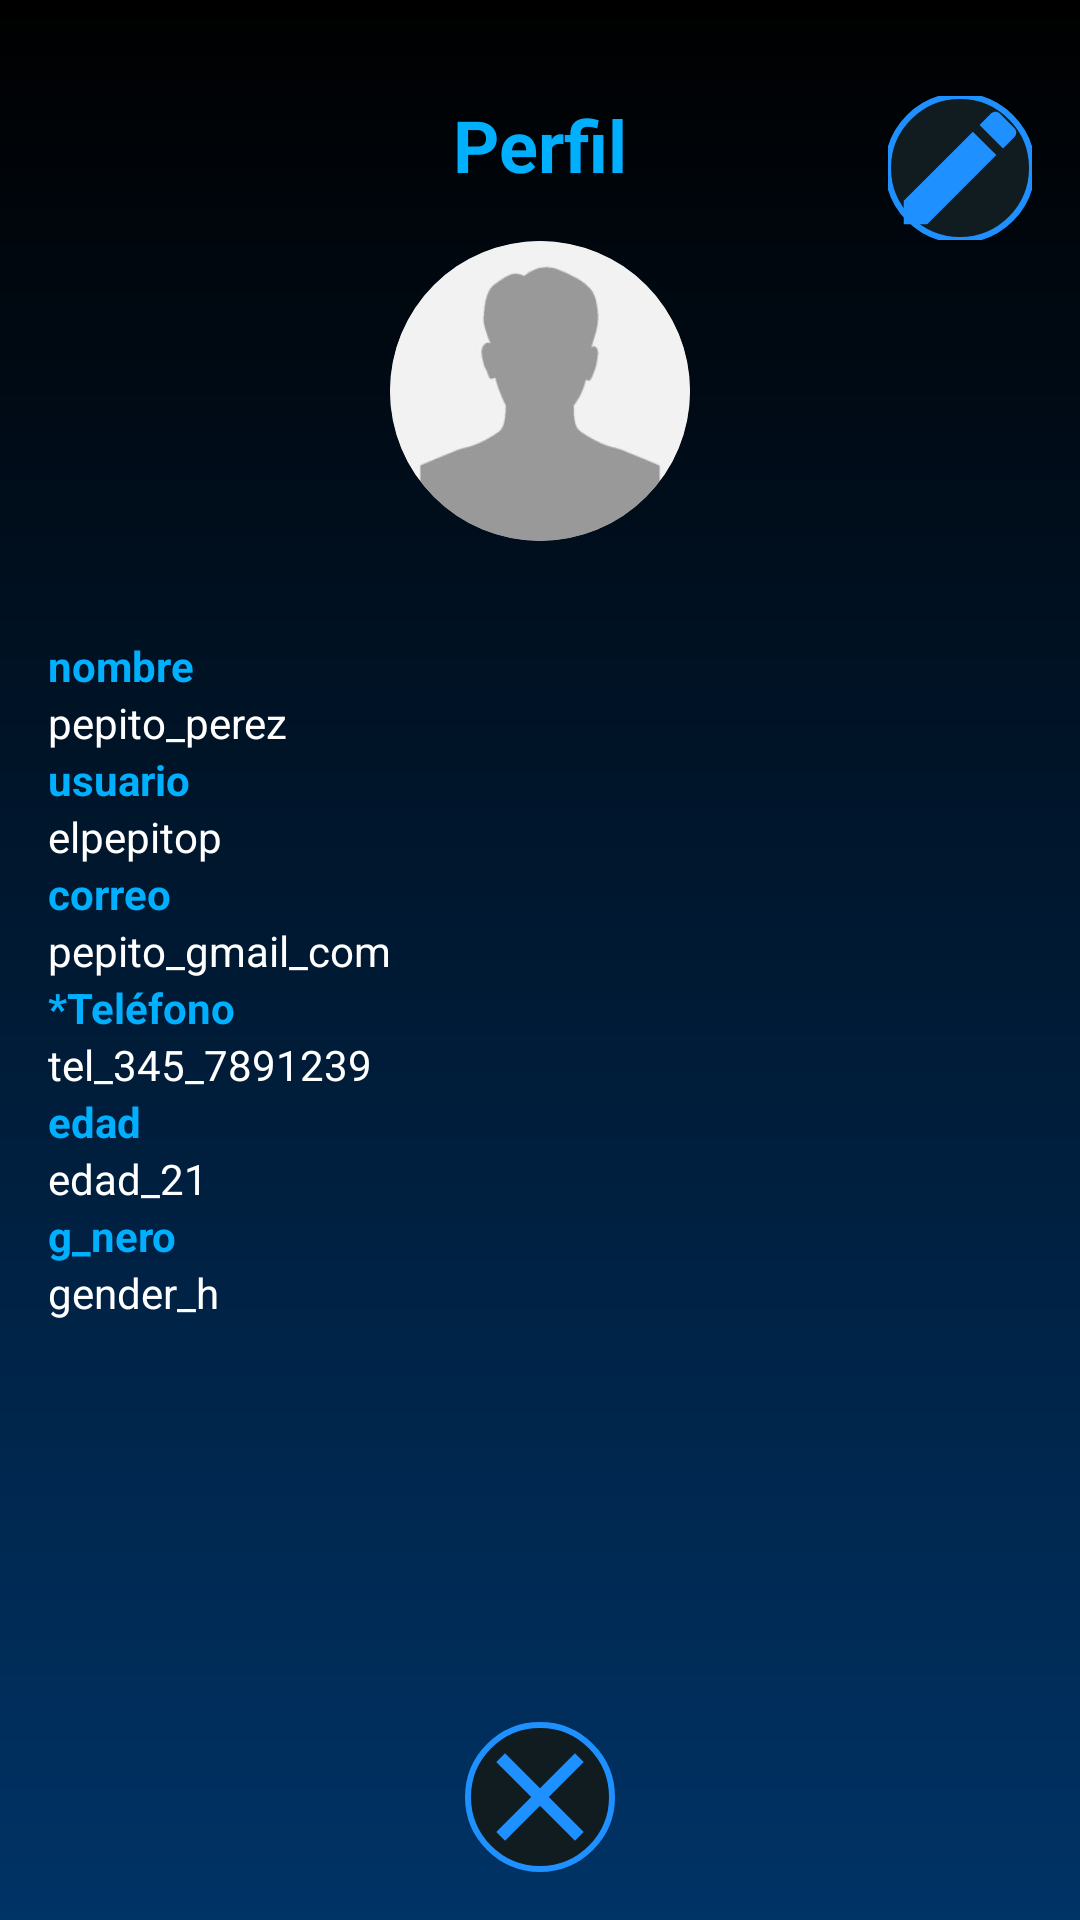

Screen size 1080px x 1920px. Icon name, then its center in pixels as [x,y]:
Cerrar: [540,1797]
Editar Perfil: [960,168]
